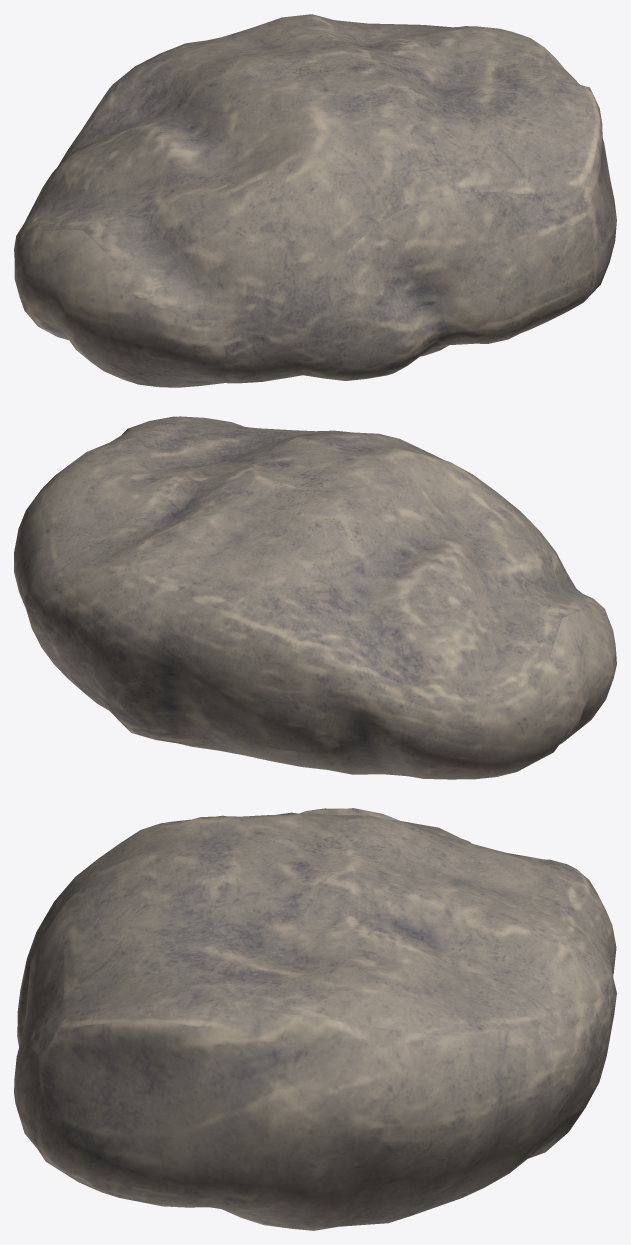
File: SmallRock_01.fbx
3 views of the same model, one above another, from view 1: azimuth 30°, elevation 25°; view 2: azimuth 150°, elevation 25°; view 3: azimuth 270°, elevation 25° (orthographic). The views are drawn at different scales.
Parts seen in each view (by area): view 1: small_rock_01_lopoly:Group37232; view 2: small_rock_01_lopoly:Group37232; view 3: small_rock_01_lopoly:Group37232.
Boxes of the visible parts, bbox=[...] form: small_rock_01_lopoly:Group37232: bbox=[14, 14, 616, 387]; small_rock_01_lopoly:Group37232: bbox=[14, 416, 616, 779]; small_rock_01_lopoly:Group37232: bbox=[14, 808, 616, 1230].
Size of the model in its own units: 5.65 by 2.58 by 4.44.
